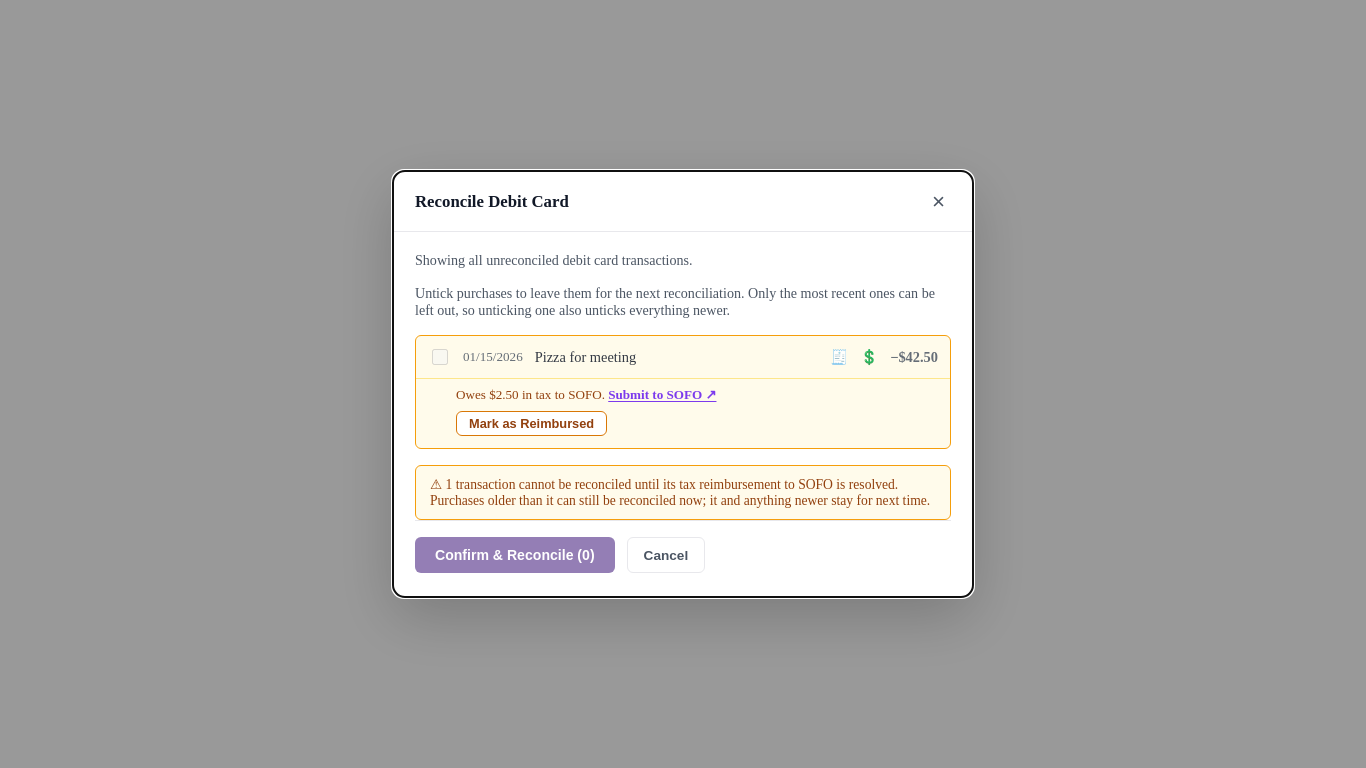
ReconciliationModal › shows an error message when marking as reimbursed fails
Click the button "Mark as Reimbursed": x=532, y=424 [456,411,607,436]
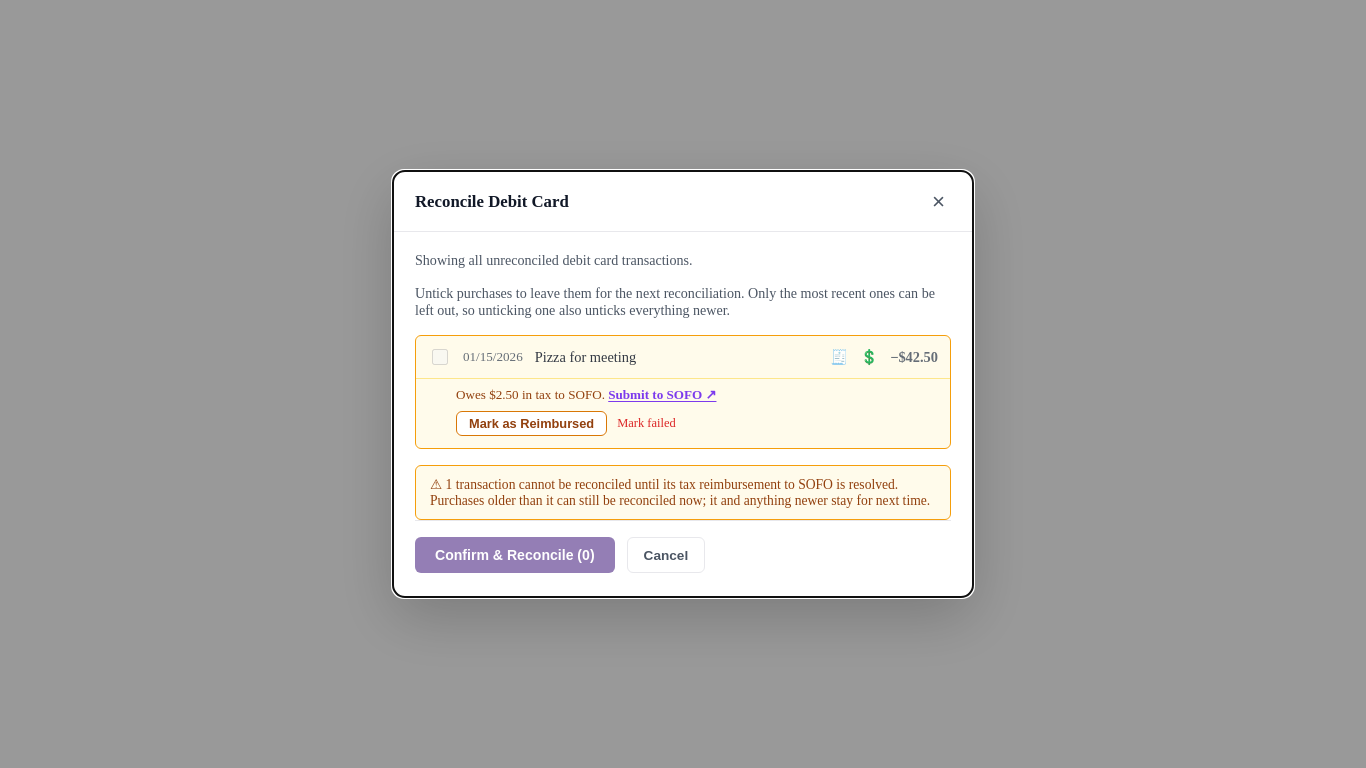
Expected: the text "Mark failed" is shown, [617,416,676,431]
